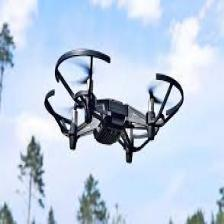drone: (44, 49, 184, 162)
